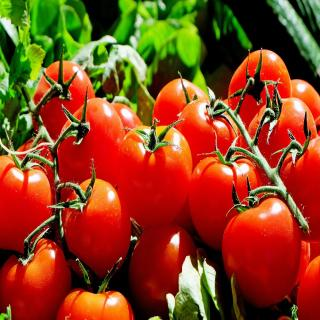Tomat: (220, 190, 313, 315), (114, 121, 196, 231), (187, 148, 266, 256), (59, 173, 135, 280), (58, 96, 129, 195), (1, 151, 57, 257)
